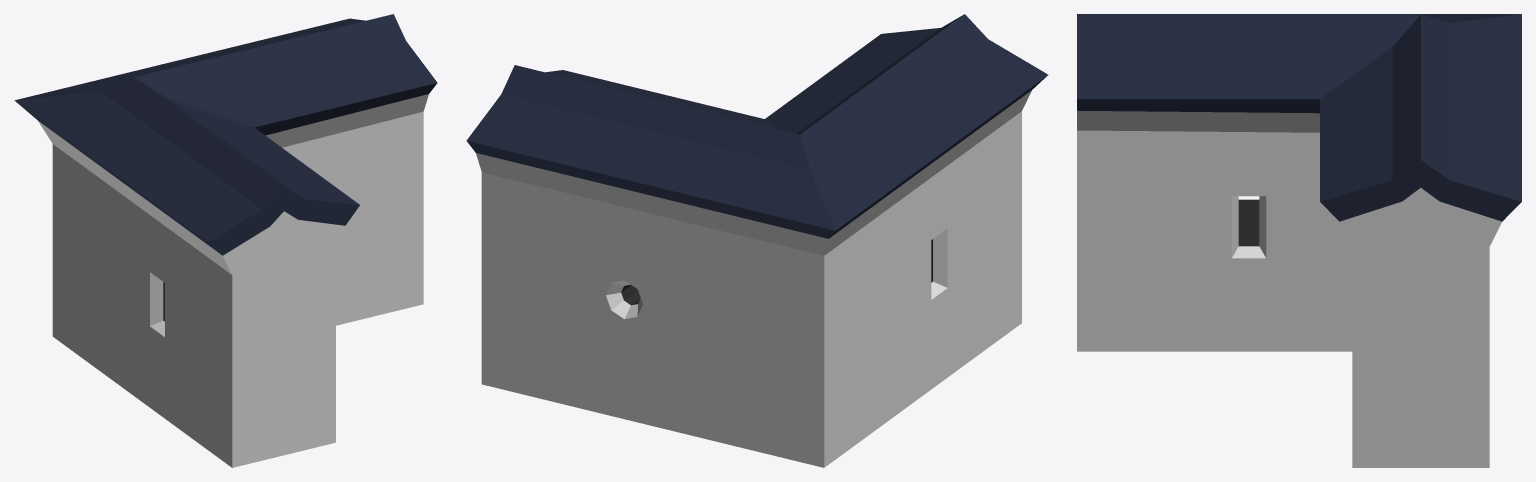
File: japan_wall-japan-edge_small.fbx
3 views of the same model, side by side, from view 1: azimuth 30°, elevation 25°; view 2: azimuth 150°, elevation 25°; view 3: azimuth 270°, elevation 25° (orthographic). The views are drawn at different scales.
Parts seen in each view (by area): view 1: japan_wall_japan_edge_small; view 2: japan_wall_japan_edge_small; view 3: japan_wall_japan_edge_small.
Boxes of the visible parts, left/top/right/bottom form: japan_wall_japan_edge_small: left=14, top=14, right=437, bottom=467; japan_wall_japan_edge_small: left=466, top=14, right=1048, bottom=467; japan_wall_japan_edge_small: left=1077, top=14, right=1521, bottom=467.
Size of the model in its own units: 200 by 153 by 200.
